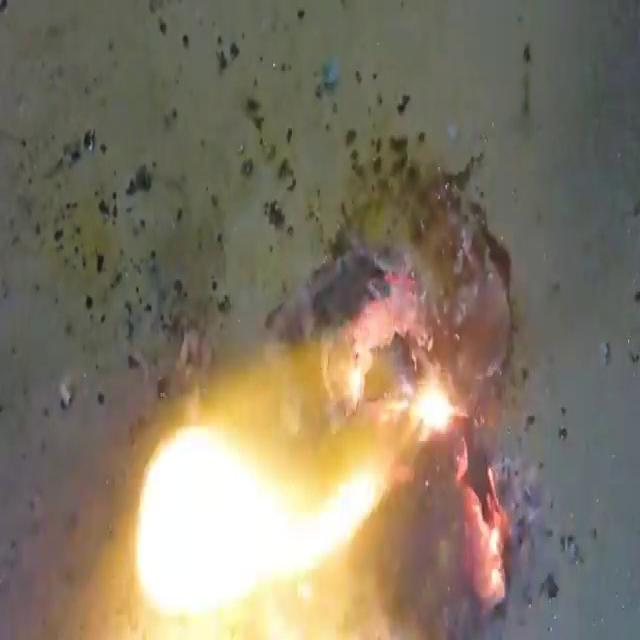Fire: (104, 223, 522, 640)
